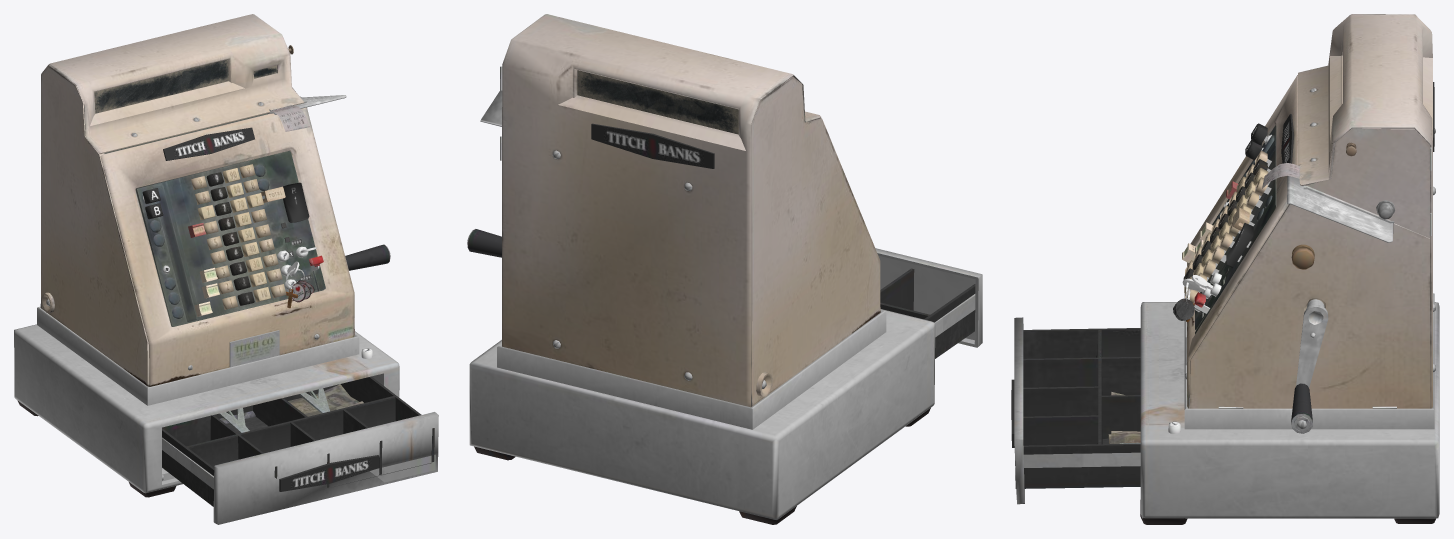
Rendered from prop_register.glb.
3 views of the same model, side by side, from view 1: azimuth 30°, elevation 25°; view 2: azimuth 150°, elevation 25°; view 3: azimuth 270°, elevation 25° (orthographic). The views are drawn at different scales.
Visible parts, largest first — view 1: CashRegister_01_body, CashRegister_011_drawer; view 2: CashRegister_01_body, CashRegister_011_drawer; view 3: CashRegister_01_body, CashRegister_011_drawer.
Boxes of the visible parts, x1,y1,x2,y2 form: CashRegister_01_body: (14,14,399,497); CashRegister_011_drawer: (162,376,438,524); CashRegister_01_body: (467,14,935,524); CashRegister_011_drawer: (875,248,982,358); CashRegister_01_body: (1140,14,1439,524); CashRegister_011_drawer: (1011,317,1140,504).
Bounding box in the file's own units: 0.6005 × 0.6211 × 0.6242.
Materials: 2 (2 with a texture image).
